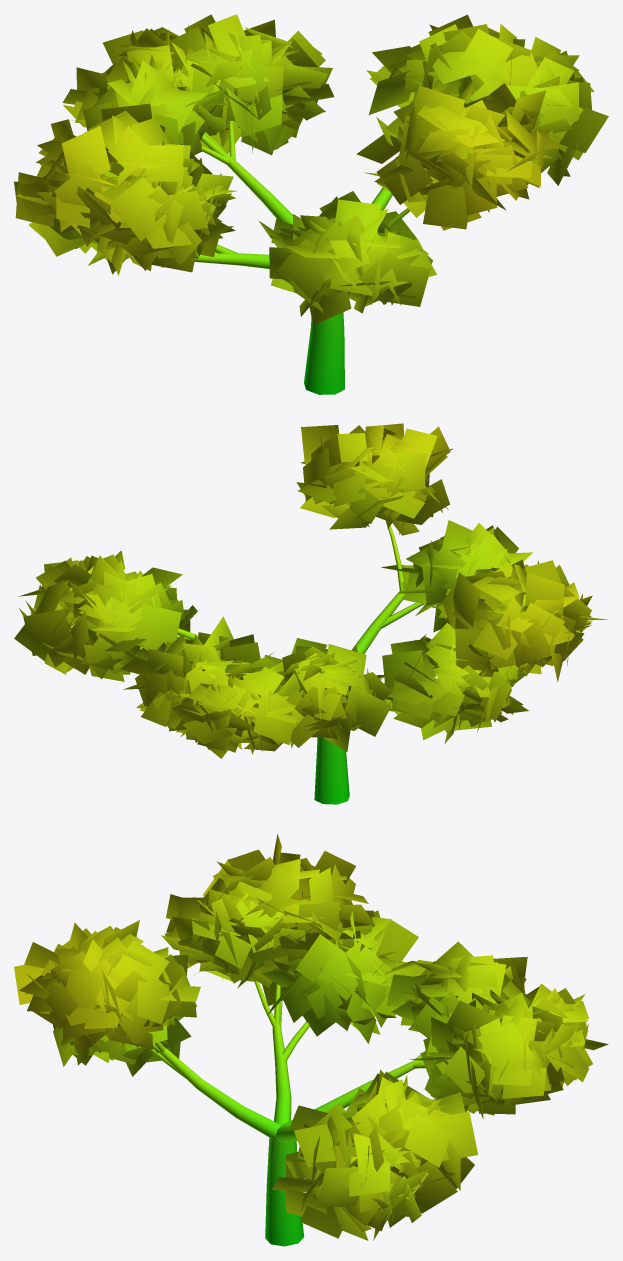
File: sakura_a.glb
3 renders of one model, top to bottom at view 1: azimuth 30°, elevation 25°; view 2: azimuth 150°, elevation 25°; view 3: azimuth 270°, elevation 25°, orthographic. The views are drawn at different scales.
Parts seen in each view (by area): view 1: sakura_a; view 2: sakura_a; view 3: sakura_a.
Boxes of the visible parts, x1,y1,x2,y2 form: sakura_a: [14, 14, 608, 394]; sakura_a: [14, 423, 608, 804]; sakura_a: [14, 834, 608, 1246].
Size of the model in its own units: 10.47 by 5.89 by 9.75.
